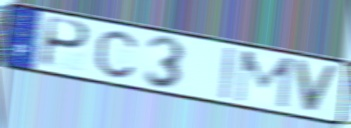3: (144, 35, 188, 91)
C: (95, 29, 139, 81)
I: (218, 45, 236, 102)
M: (233, 48, 296, 111)
P: (38, 15, 92, 71)
V: (292, 57, 341, 116)
